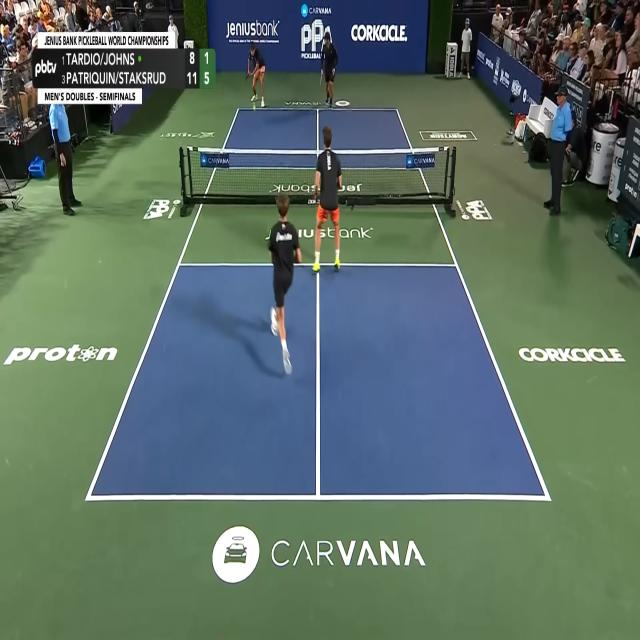ball: (253, 104, 256, 112)
